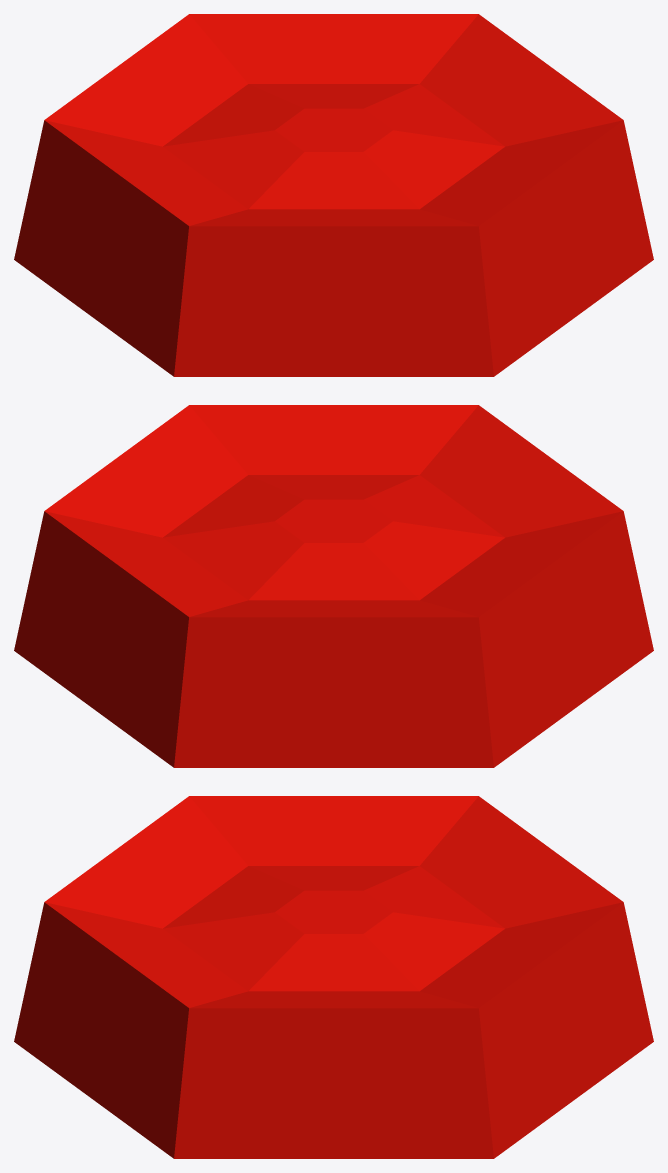
The model's file is Mine.fbx.
3 views of the same model, one above another, from view 1: azimuth 30°, elevation 25°; view 2: azimuth 150°, elevation 25°; view 3: azimuth 270°, elevation 25° (orthographic).
Parts seen in each view (by area): view 1: Mine; view 2: Mine; view 3: Mine.
Part boxes in pixels (box(x1,y1,x2,y2)): Mine: box(14, 14, 653, 376); Mine: box(14, 405, 653, 767); Mine: box(14, 796, 653, 1158).
Size of the model in its own units: 17.32 by 4.82 by 20.
